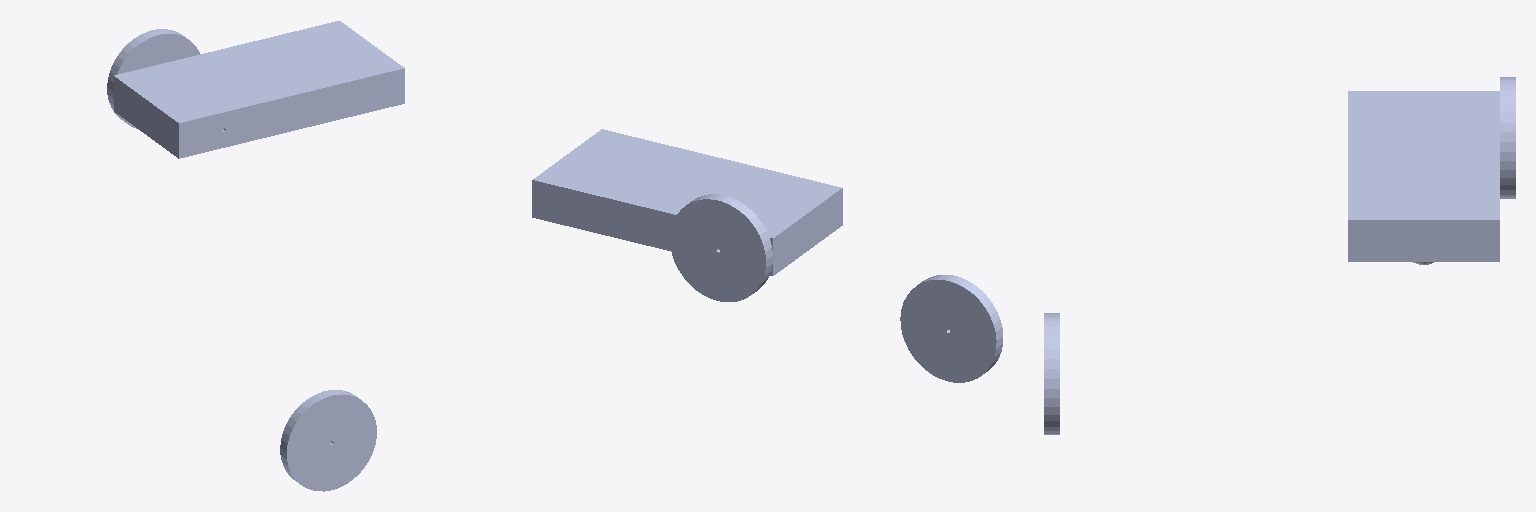
The robot description file, URDF, robot "minicar2":
<robot
  name="minicar2">
  <link
    name="base_link">
    <inertial>
      <origin
        xyz="0.060886 1.1935E-15 -0.01524"
        rpy="0 0 0" />
      <mass
        value="5" />
      <inertia
        ixx="0"
        ixy="0"
        ixz="0"
        iyy="0"
        iyz="0"
        izz="0" />
    </inertial>
    <visual>
      <origin
        xyz="0 0 0"
        rpy="0 0 0" />
      <geometry>
        <mesh
          filename="package://minicar2/meshes/base_link.STL" />
      </geometry>
      <material
        name="">
        <color
          rgba="0.79216 0.81961 0.93333 1" />
      </material>
    </visual>
    <collision>
      <origin
        xyz="0 0 0"
        rpy="0 0 0" />
      <geometry>
        <mesh
          filename="package://minicar2/meshes/base_link.STL" />
      </geometry>
    </collision>
  </link>
  <link
    name="wl">
    <inertial>
      <origin
        xyz="3.4694E-18 -0.005 -2.7756E-17"
        rpy="0 0 0" />
      <mass
        value="1" />
      <inertia
        ixx="0"
        ixy="0"
        ixz="0"
        iyy="0"
        iyz="0"
        izz="0" />
    </inertial>
    <visual>
      <origin
        xyz="0 0 0"
        rpy="0 0 0" />
      <geometry>
        <mesh
          filename="package://minicar2/meshes/wl.STL" />
      </geometry>
      <material
        name="">
        <color
          rgba="0.79216 0.81961 0.93333 1" />
      </material>
    </visual>
    <collision>
      <origin
        xyz="0 0 0"
        rpy="0 0 0" />
      <geometry>
        <mesh
          filename="package://minicar2/meshes/wl.STL" />
      </geometry>
    </collision>
  </link>
  <joint
    name="jl"
    type="continuous">
    <origin
      xyz="0 0.06 -0.015"
      rpy="0 0 0" />
    <parent
      link="base_link" />
    <child
      link="wl" />
    <axis
      xyz="0 1 0" />
  </joint>
  <link
    name="wr">
    <inertial>
      <origin
        xyz="0 0.005 0"
        rpy="0 0 0" />
      <mass
        value="1" />
      <inertia
        ixx="0"
        ixy="0"
        ixz="0"
        iyy="0"
        iyz="0"
        izz="0" />
    </inertial>
    <visual>
      <origin
        xyz="0 0 0"
        rpy="0 0 0" />
      <geometry>
        <mesh
          filename="package://minicar2/meshes/wr.STL" />
      </geometry>
      <material
        name="">
        <color
          rgba="0.79216 0.81961 0.93333 1" />
      </material>
    </visual>
    <collision>
      <origin
        xyz="0 0 0"
        rpy="0 0 0" />
      <geometry>
        <mesh
          filename="package://minicar2/meshes/wr.STL" />
      </geometry>
    </collision>
  </link>
  <joint
    name="jr"
    type="continuous">
    <origin
      xyz="0 -0.06 -0.015"
      rpy="0 0 0" />
    <parent
      link="base_link" />
    <child
      link="wr" />
    <axis
      xyz="0 0.99083 0.13511" />
  </joint>
</robot>

--- Facts derived from the render (not from the file) ---
The picture shows the robot from 3 angles, left to right: view 1: azimuth 30°, elevation 25°; view 2: azimuth 150°, elevation 25°; view 3: azimuth 270°, elevation 25°; orthographic projection.
Model minicar2 with 3 links and 2 joints (2 continuous), rooted at base_link, posed all joints at 0.
Visible links, largest first — view 1: base_link, wr, wl; view 2: base_link, wl, wr; view 3: base_link, wl, wr.
Boxes of the visible links, x1,y1,x2,y2 form: base_link: (114,21,404,158); wr: (280,390,376,491); wl: (107,29,199,129); base_link: (532,129,842,275); wl: (670,194,772,301); wr: (900,275,1002,382); base_link: (1348,91,1499,264); wl: (1500,77,1515,198); wr: (1044,313,1059,434).
Bounding box of the posed robot: 0.2191 × 0.3085 × 0.26 m (x, y, z).
Meshes: 3 distinct files referenced, 3 mesh visuals loaded (3 binary STL).